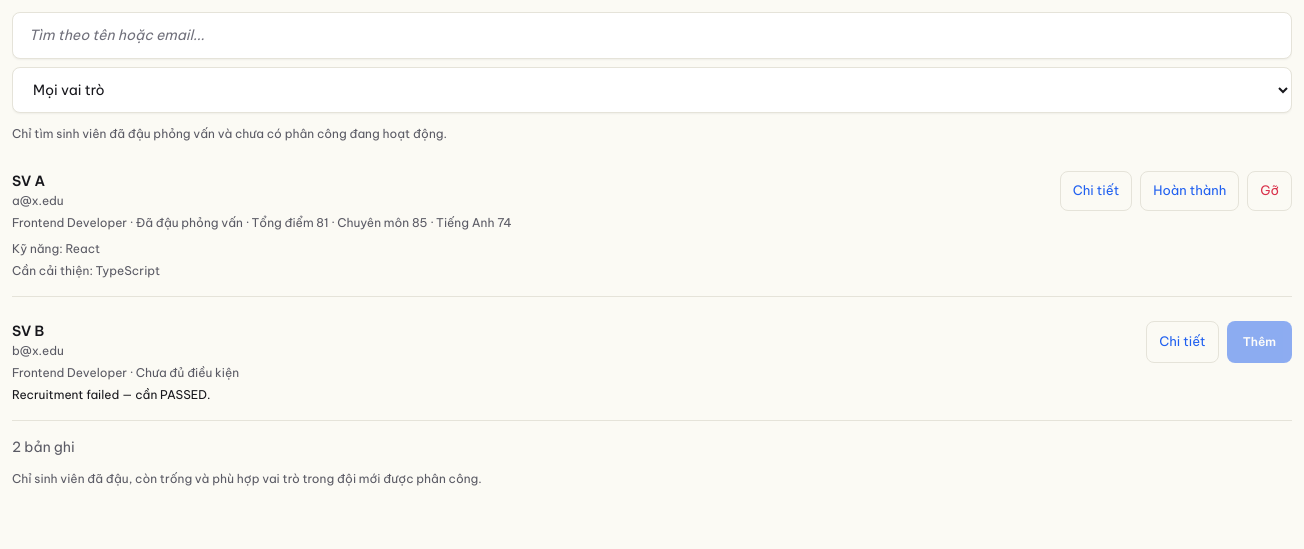
Test case: MemberSelector (M4) › removes an assigned intern through the active assignment
Expected: the text "SV A" is shown, [12,172,45,190]
Click the button "Gỡ": [1270, 191] box [1247,171,1292,211]
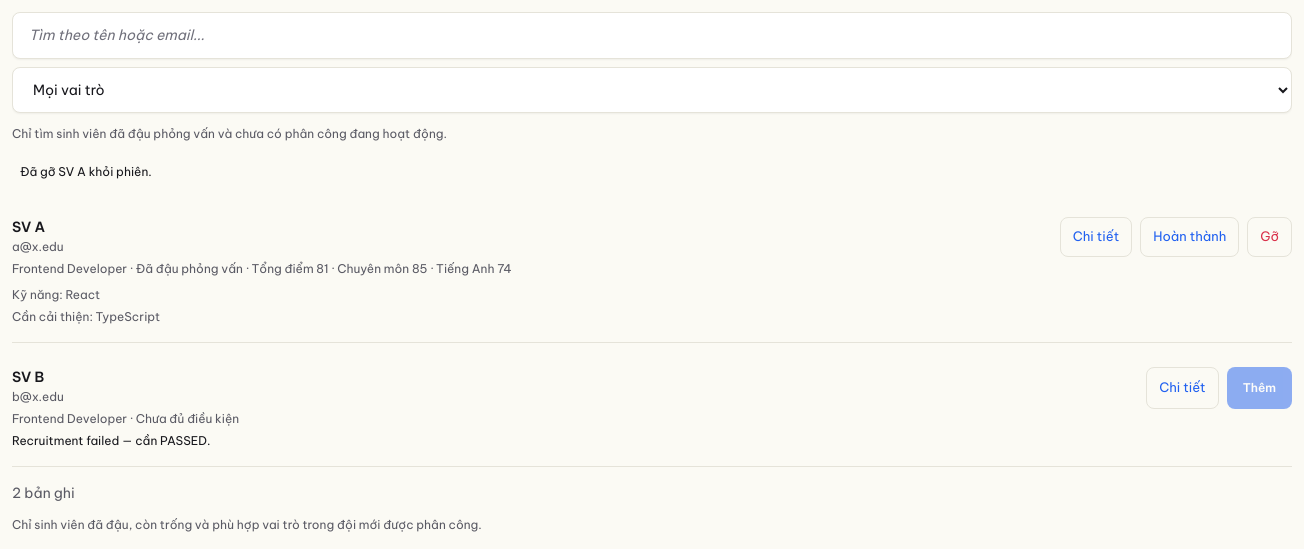
Expected: the text "Đã gỡ SV A khỏi phiên." is shown, [20,164,152,179]
